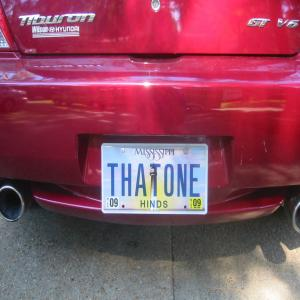Vehicle-registration-plate: (89, 134, 216, 222)
